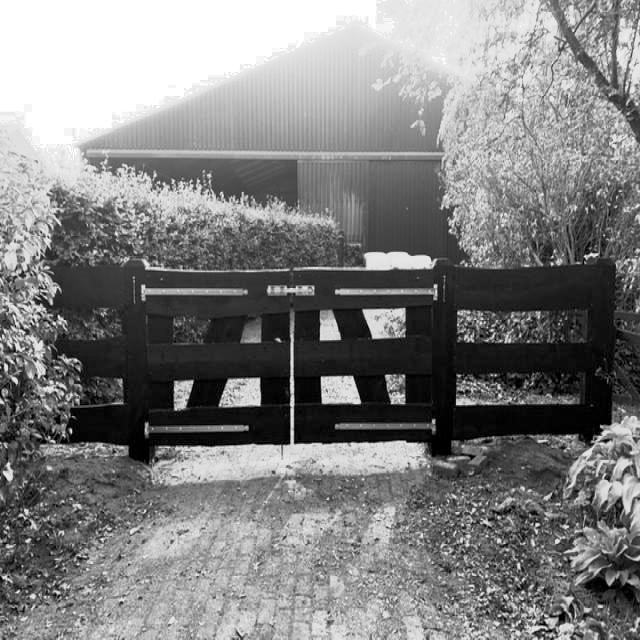fences: (75, 266, 606, 436)
